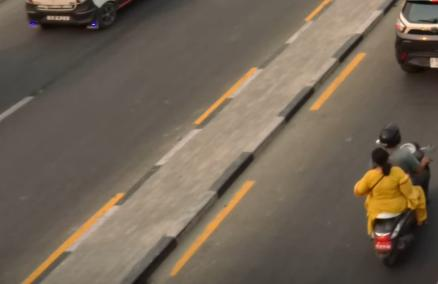scooter: (368, 138, 433, 267)
